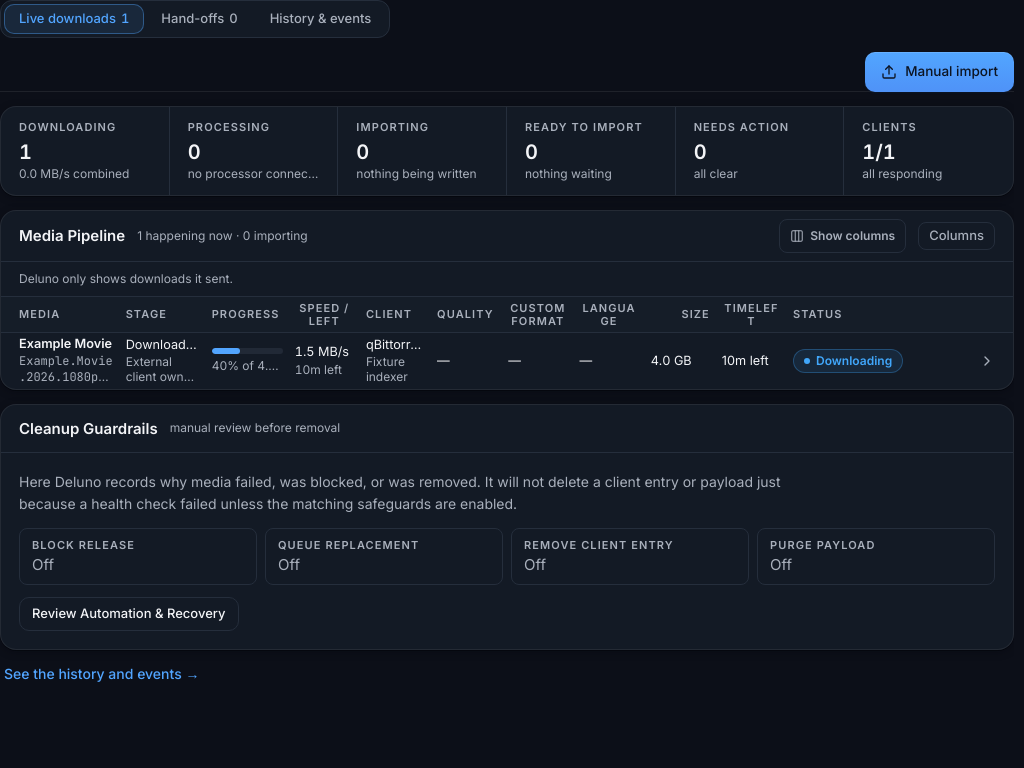
Scenario: download drawer: availability, last activity and completion (#970) › shows availability, last activity and completion in the drawer when the client reports them
This screenshot has width=1024, height=768.
Click the text "Example.Movie.2026.1080p.WEB-DL-GROUP". click: (507,360)
box: [1,332,1013,388]
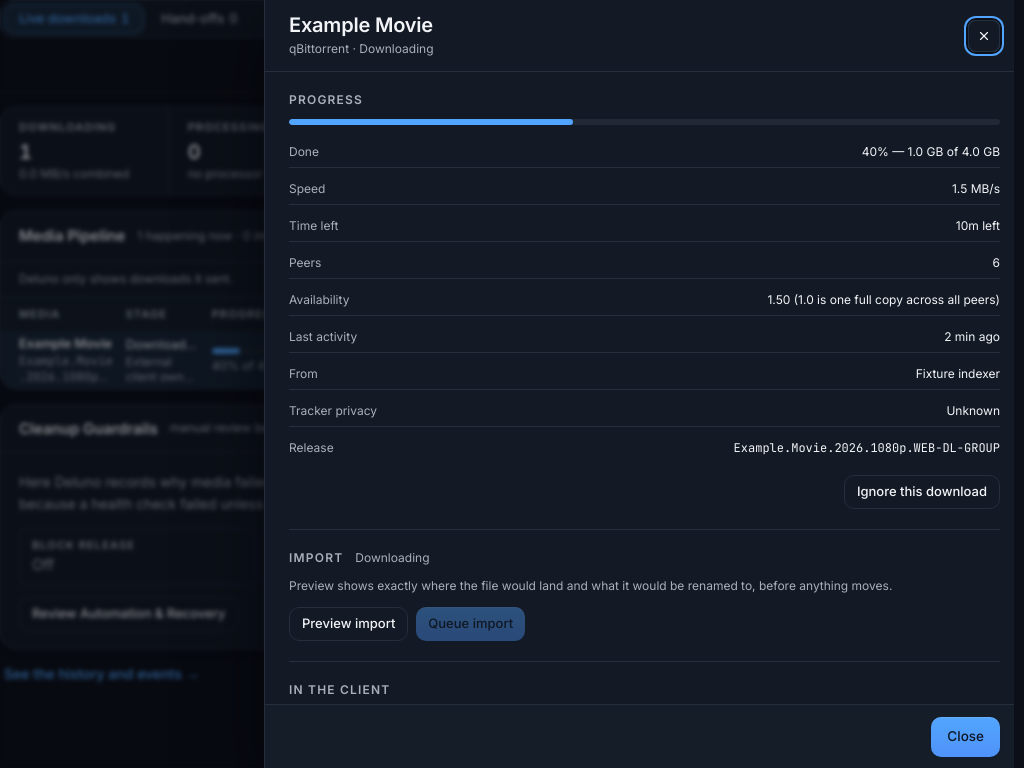
Check: the text "Availability" is shown, box [289,291,349,309]
Check: the text "1.50 (1.0 is one full copy across all peers)" is shown, box [768,291,1000,309]
Check: the text "Last activity" is shown, box [289,328,357,346]
